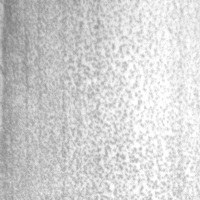pitted_surface: (63, 1, 199, 200)
